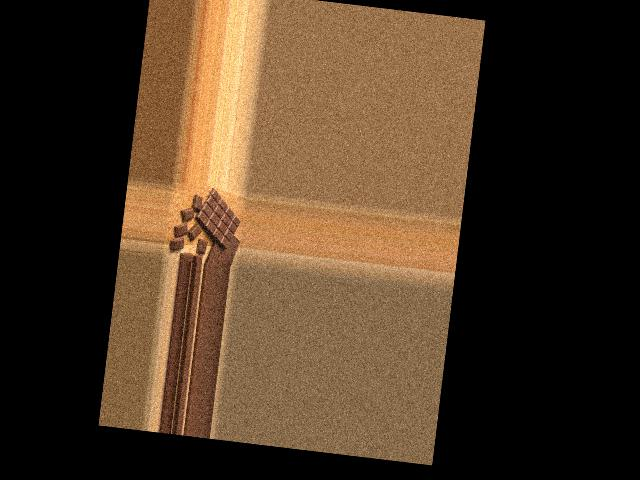chocolate: (189, 188, 243, 250)
